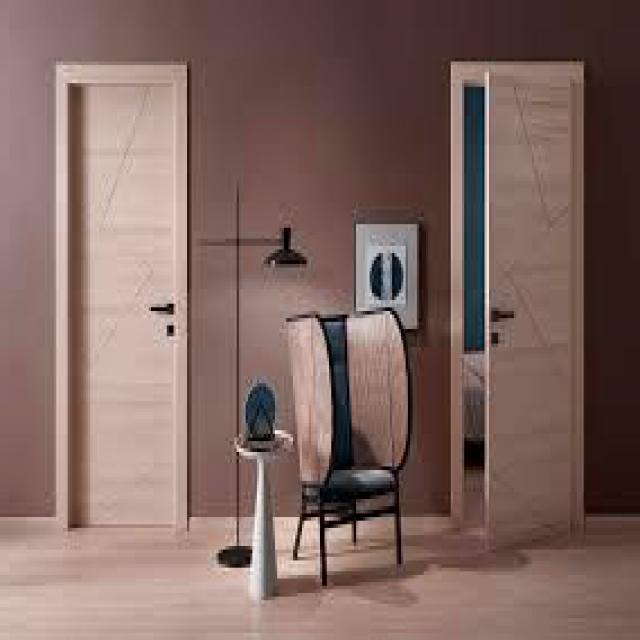door: (49, 37, 200, 583), (432, 41, 592, 543)
